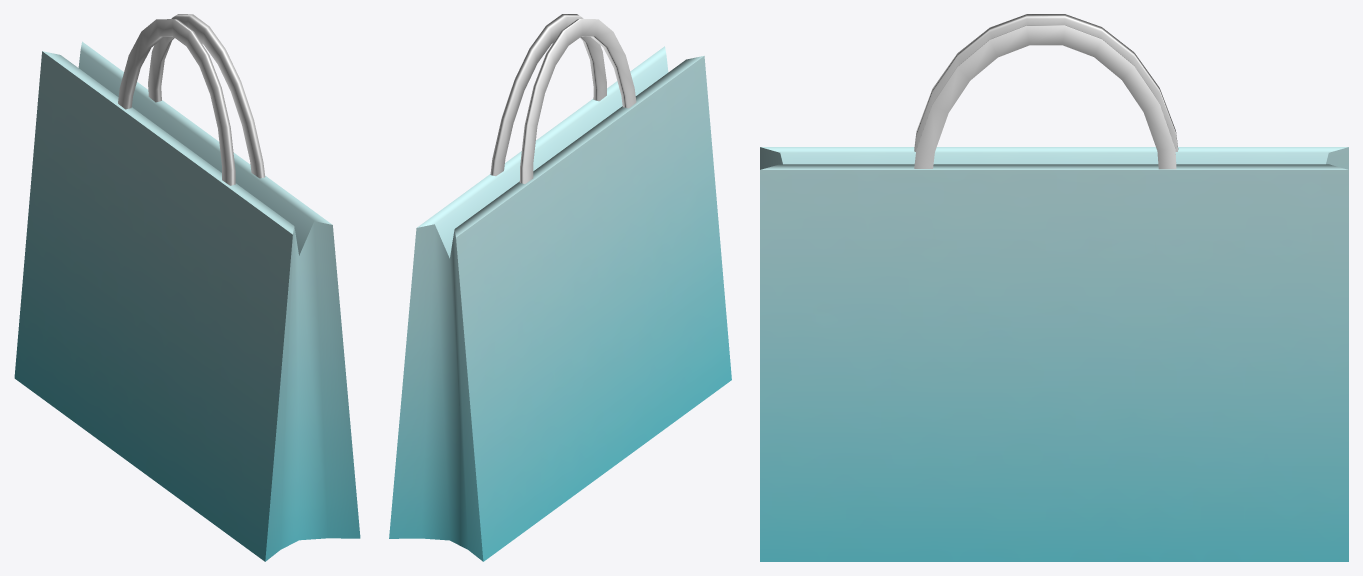
Rendered from PRP_Bag_6.fbx.
The picture shows the model from 3 angles, left to right: view 1: azimuth 30°, elevation 25°; view 2: azimuth 150°, elevation 25°; view 3: azimuth 270°, elevation 25°; orthographic projection. The views are drawn at different scales.
Parts seen in each view (by area): view 1: PRP_Bag_6; view 2: PRP_Bag_6; view 3: PRP_Bag_6.
Boxes of the visible parts, bbox=[...] form: PRP_Bag_6: bbox=[14, 14, 360, 561]; PRP_Bag_6: bbox=[389, 14, 731, 561]; PRP_Bag_6: bbox=[760, 14, 1348, 561].
Size of the model in its own units: 15.58 by 68.56 by 71.05.
